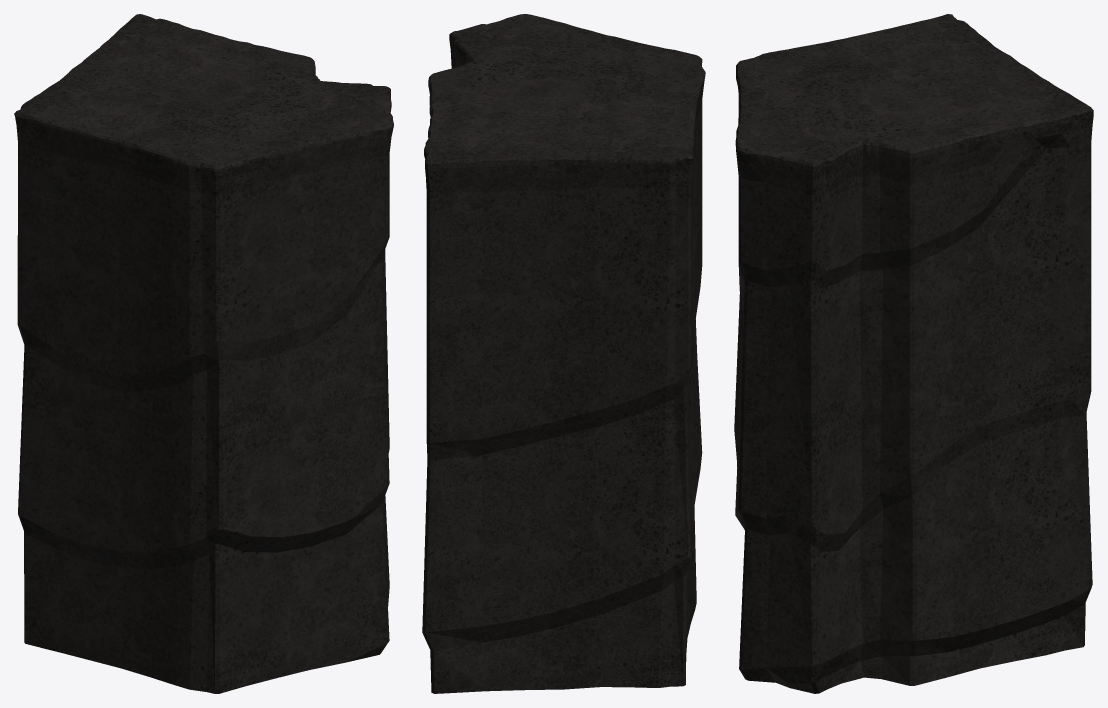
Rendered from TrapFloorM01.fbx.
3 renders of one model, left to right at view 1: azimuth 30°, elevation 25°; view 2: azimuth 150°, elevation 25°; view 3: azimuth 270°, elevation 25°, orthographic.
Parts seen in each view (by area): view 1: SM_ENV_NATURE_Cave_SinkingFloor_02.mo; view 2: SM_ENV_NATURE_Cave_SinkingFloor_02.mo; view 3: SM_ENV_NATURE_Cave_SinkingFloor_02.mo.
Part boxes in pixels (x1,y1,x2,y2): SM_ENV_NATURE_Cave_SinkingFloor_02.mo: [14, 14, 393, 693]; SM_ENV_NATURE_Cave_SinkingFloor_02.mo: [422, 14, 705, 693]; SM_ENV_NATURE_Cave_SinkingFloor_02.mo: [734, 14, 1093, 693].
Size of the model in its own units: 303 by 504 by 303.
2 materials, 2 textured.
